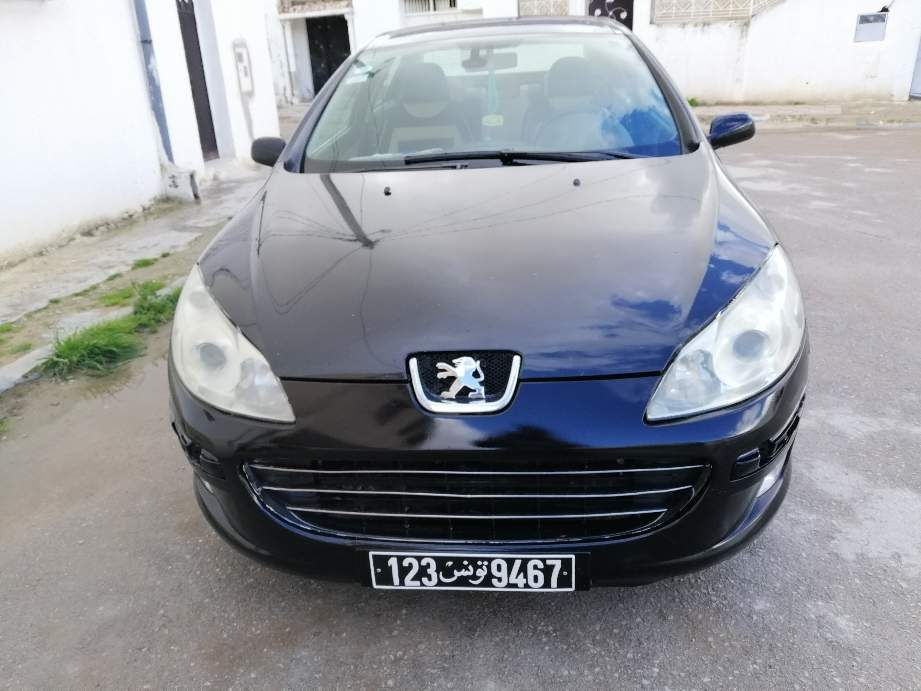LP: (366, 549, 581, 594)
